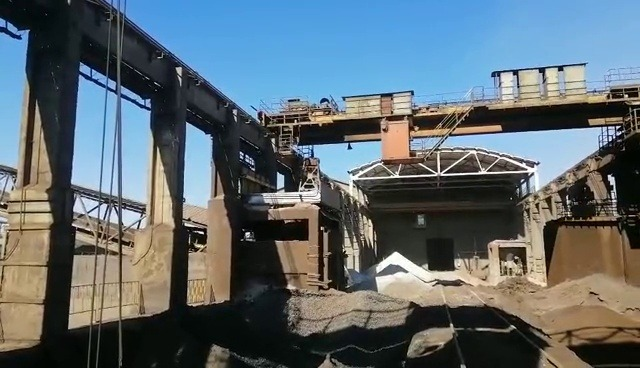grab: (293, 156, 323, 193)
